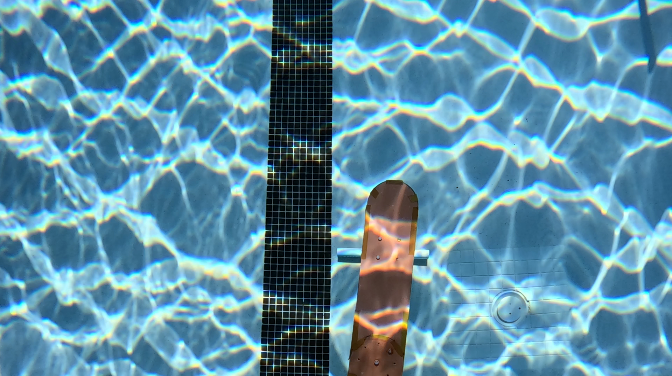pathmarker: (347, 180, 418, 374)
